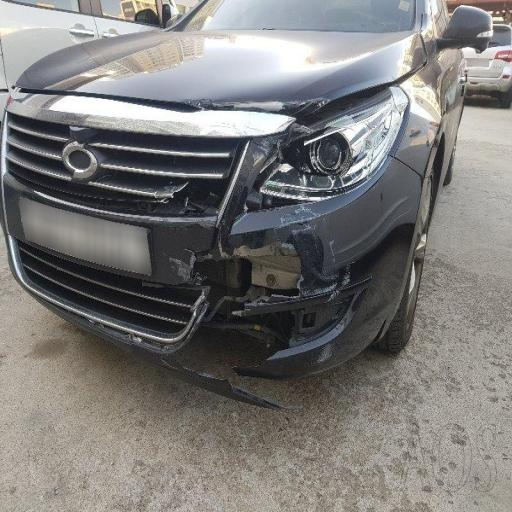broken: (136, 120, 394, 369)
